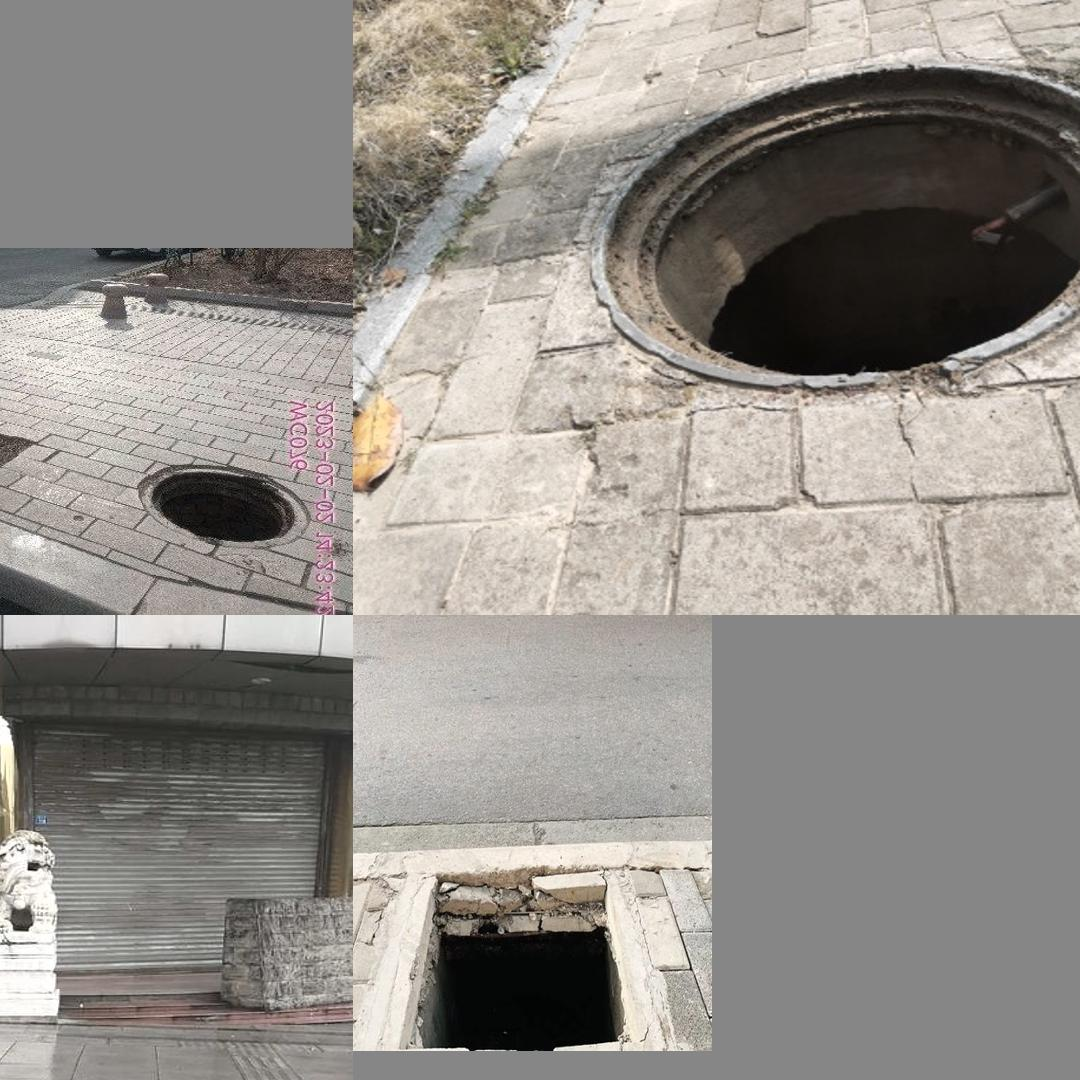lose: (587, 58, 1080, 394), (381, 848, 647, 1049), (137, 459, 308, 546)
